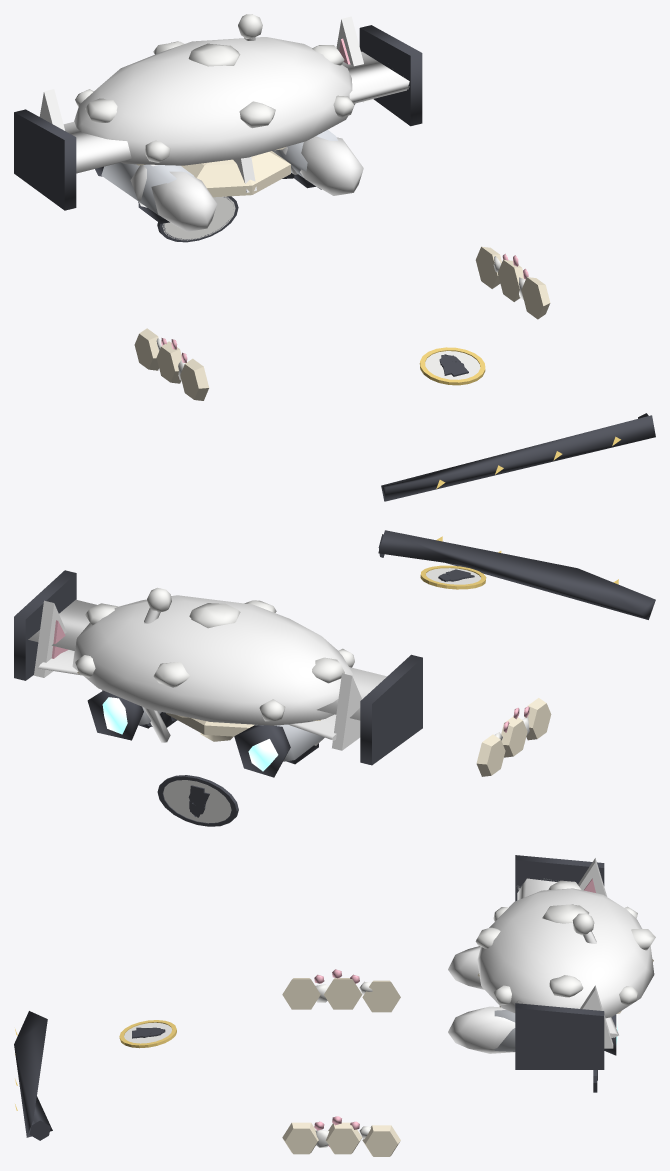
File: kartkit.glb
3 renders of one model, top to bottom at view 1: azimuth 30°, elevation 25°; view 2: azimuth 150°, elevation 25°; view 3: azimuth 270°, elevation 25°, orthographic. The views are drawn at different scales.
Visible parts, largest first — view 1: KX_0_Parts, KX_1_Parts, KX_2_Parts, KX_3_Parts, KX_0_Plate, KX_0_HoodDisc, KX_0_HoodRim; view 2: KX_0_Parts, KX_1_Parts, KX_3_Parts, KX_2_Parts, KX_0_Plate, KX_0_PlateRim, KX_0_HoodRim, KX_0_HoodDisc; view 3: KX_0_Parts, KX_1_Parts, KX_2_Parts, KX_3_Parts, KX_0_HoodRim, KX_0_HoodDisc.
Part boxes in pixels (x1,y1,x2,y2): KX_0_Parts: (74, 37, 525, 380); KX_1_Parts: (14, 25, 655, 501); KX_2_Parts: (95, 129, 363, 231); KX_3_Parts: (39, 14, 528, 378); KX_0_Plate: (162, 196, 235, 240); KX_0_HoodDisc: (425, 351, 480, 379); KX_0_HoodRim: (419, 347, 485, 385); KX_0_Parts: (72, 595, 529, 741); KX_1_Parts: (14, 530, 655, 776); KX_3_Parts: (34, 587, 529, 750); KX_2_Parts: (87, 690, 324, 777); KX_0_Plate: (163, 780, 231, 823); KX_0_PlateRim: (157, 775, 238, 826); KX_0_HoodRim: (420, 565, 486, 589); KX_0_HoodDisc: (426, 568, 480, 584); KX_0_Parts: (315, 880, 655, 1147); KX_1_Parts: (14, 855, 604, 1156); KX_2_Parts: (448, 946, 617, 1055); KX_3_Parts: (314, 858, 618, 1146); KX_0_HoodRim: (119, 1020, 176, 1048); KX_0_HoodDisc: (124, 1022, 171, 1043).
Size of the model in its own units: 2.44 by 1.43 by 4.32.
